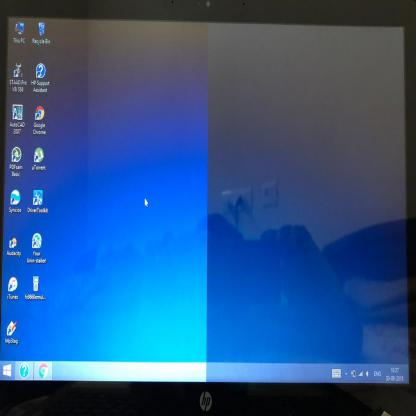fade: (204, 25, 406, 382)
